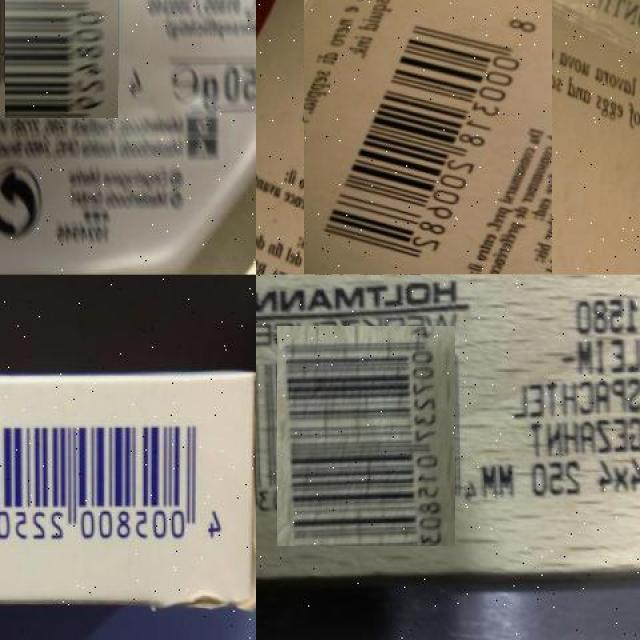Barcode: (294, 0, 562, 264), (267, 336, 466, 536), (0, 402, 229, 569), (2, 0, 121, 115)
